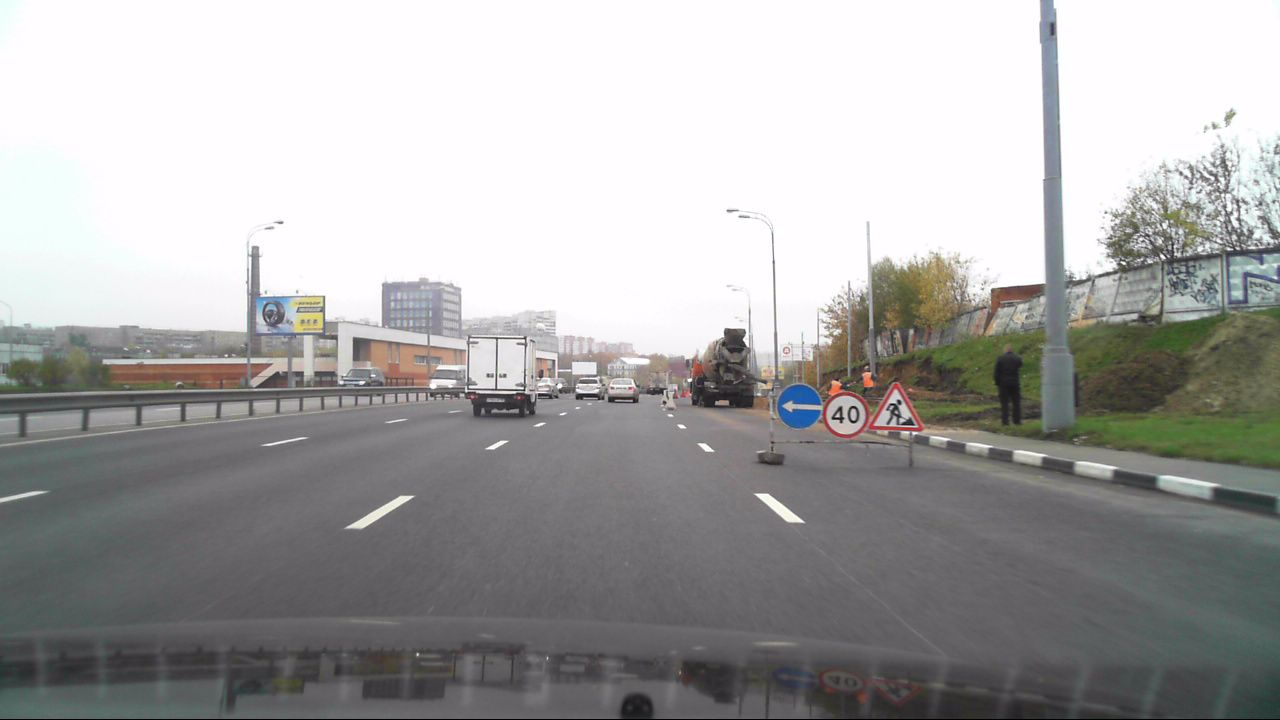Turn Left: (777, 383, 823, 429)
speed_warning_40: (823, 391, 869, 438)
